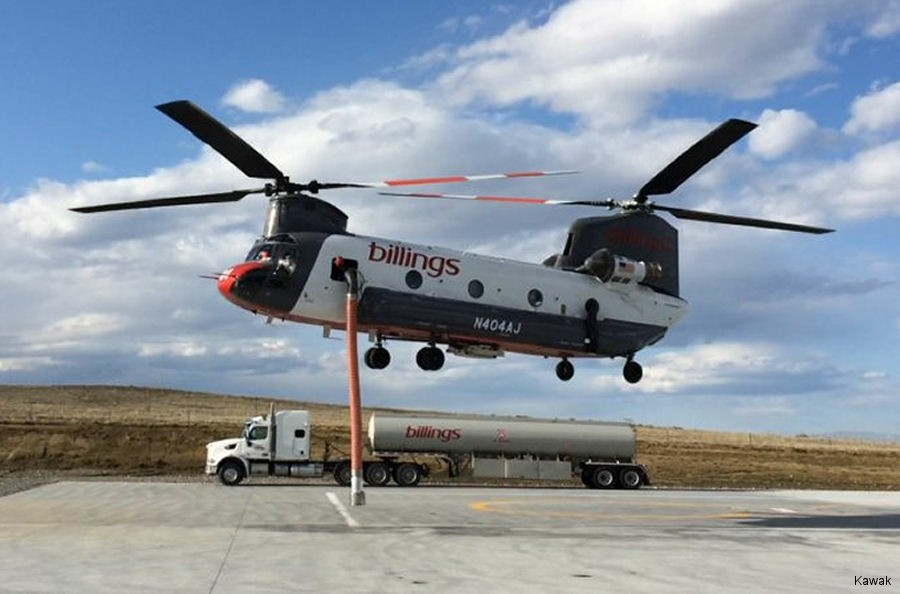chinook: (161, 132, 731, 391)
